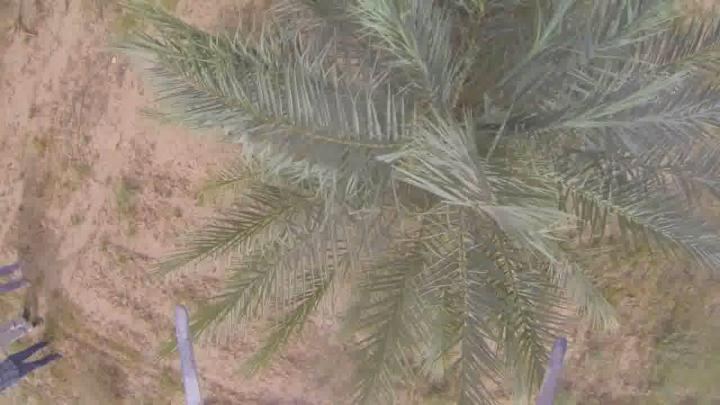Date-Palm-Crown: (270, 8, 678, 376)
